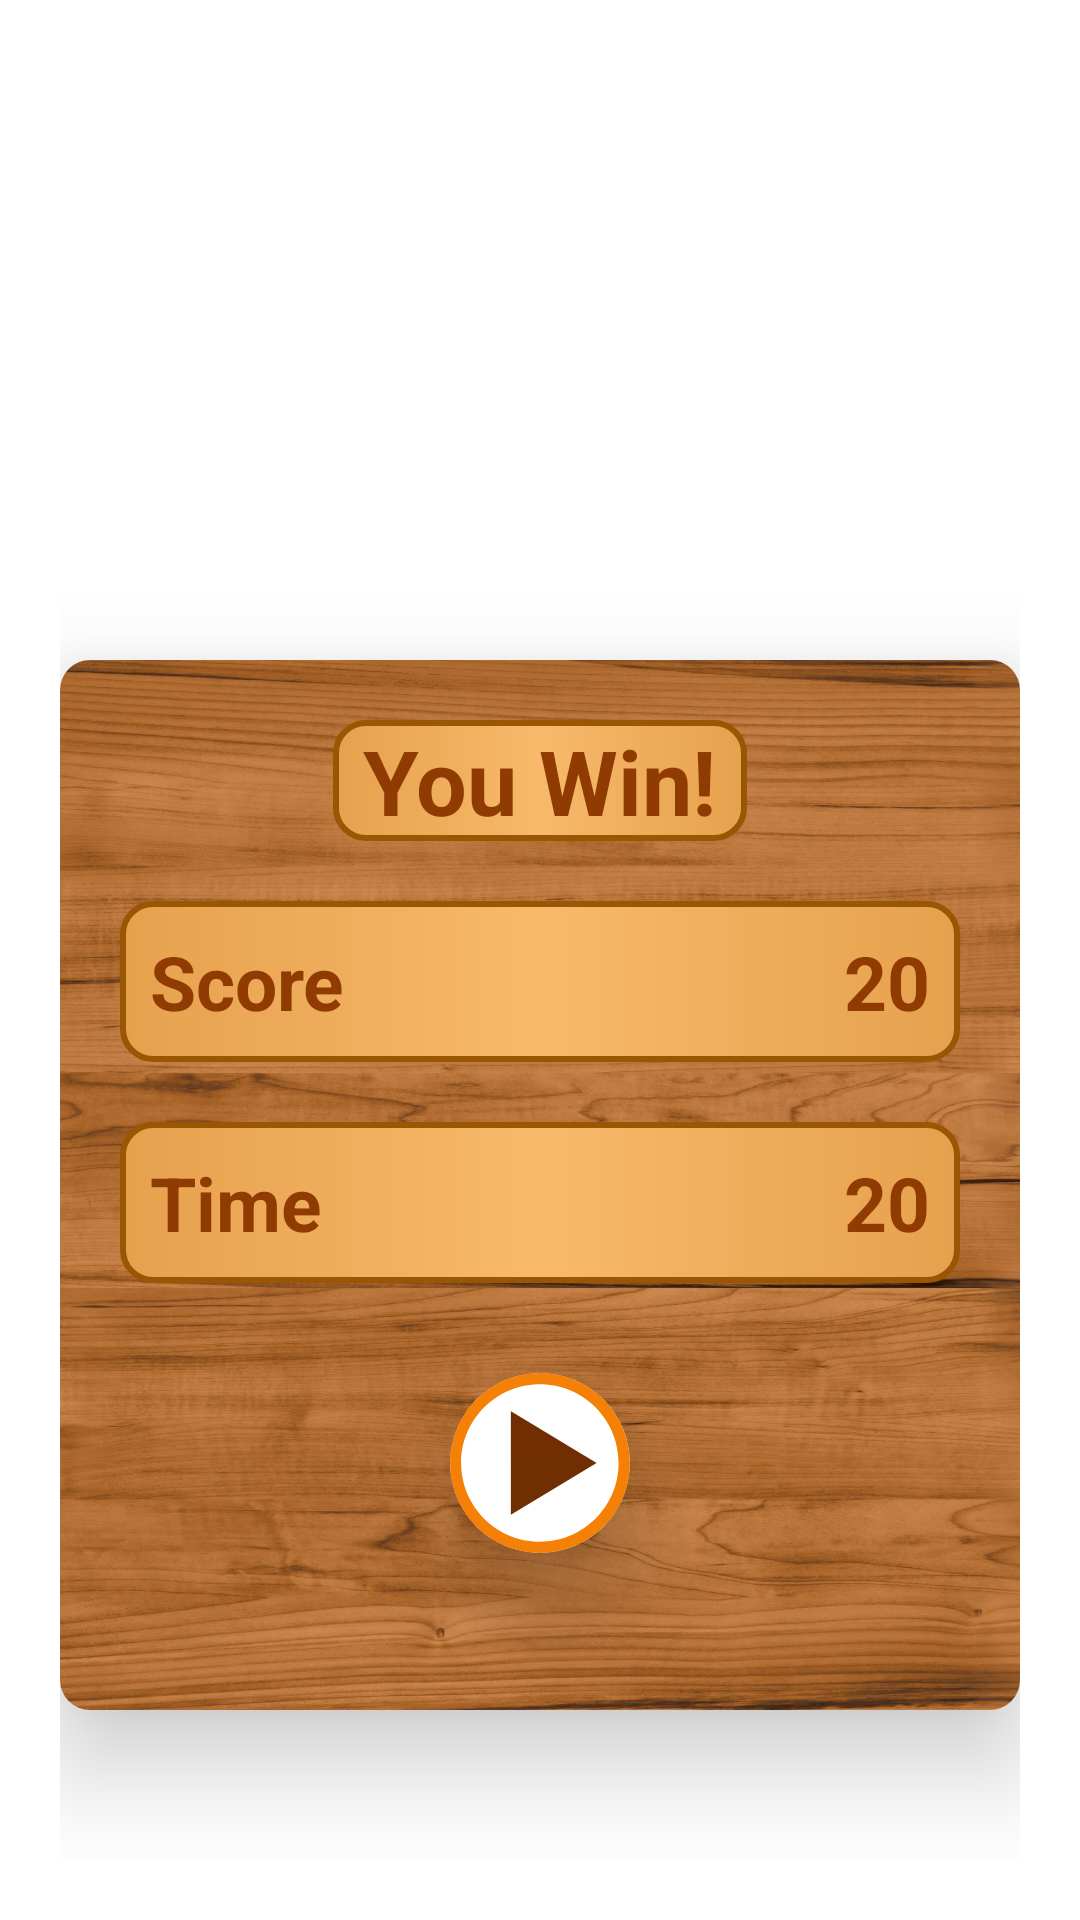

Where icons sit on this 1080px×1920px app screen, as [x1, y1, x2, y2]:
play: [450, 1373, 630, 1553]
